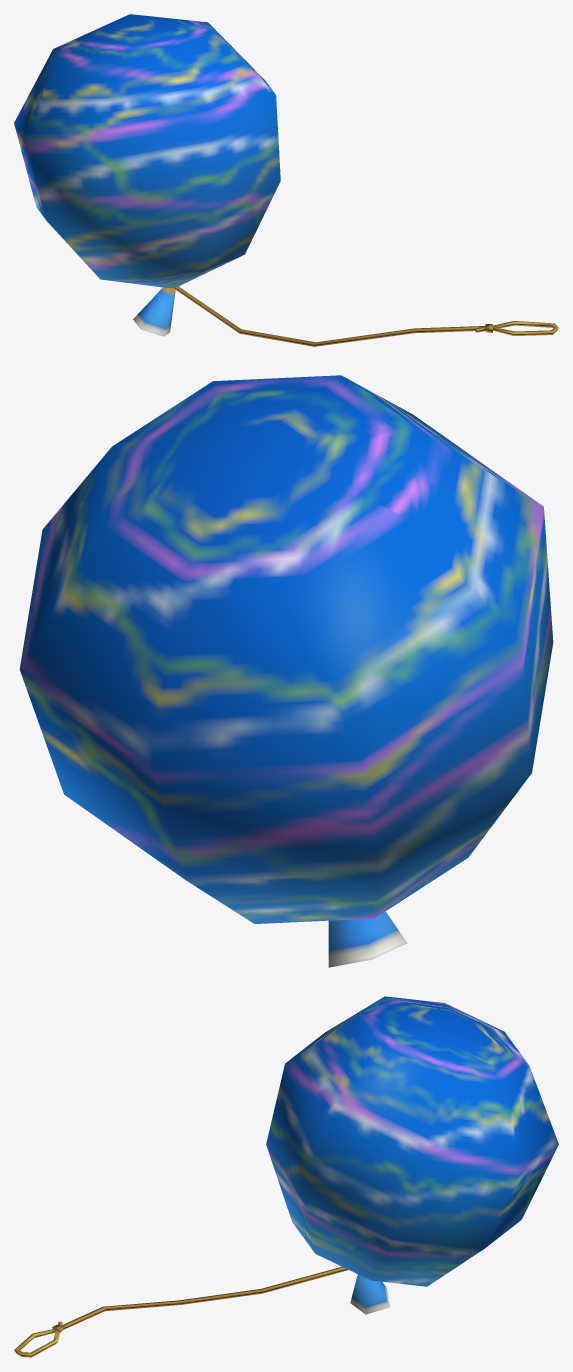
Rendered from jsf_WaterBalloon_12_d.fbx.
3 views of the same model, one above another, from view 1: azimuth 30°, elevation 25°; view 2: azimuth 150°, elevation 25°; view 3: azimuth 270°, elevation 25° (orthographic). The views are drawn at different scales.
Parts seen in each view (by area): view 1: jsf_WaterBalloon_12_d; view 2: jsf_WaterBalloon_12_d; view 3: jsf_WaterBalloon_12_d.
Part boxes in pixels (x1,y1,x2,y2): jsf_WaterBalloon_12_d: [14, 14, 558, 346]; jsf_WaterBalloon_12_d: [19, 375, 553, 967]; jsf_WaterBalloon_12_d: [14, 996, 558, 1357].
Bounding box in the file's own units: 15.63 × 12.55 × 20.67.
